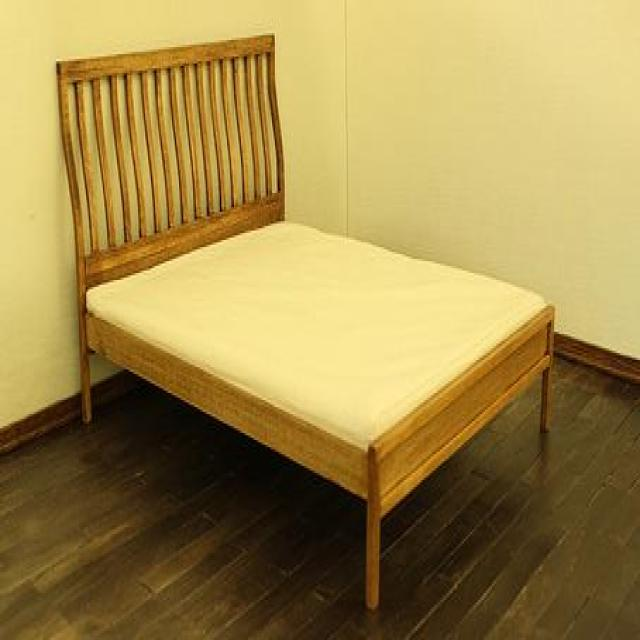bed: (56, 30, 556, 614)
